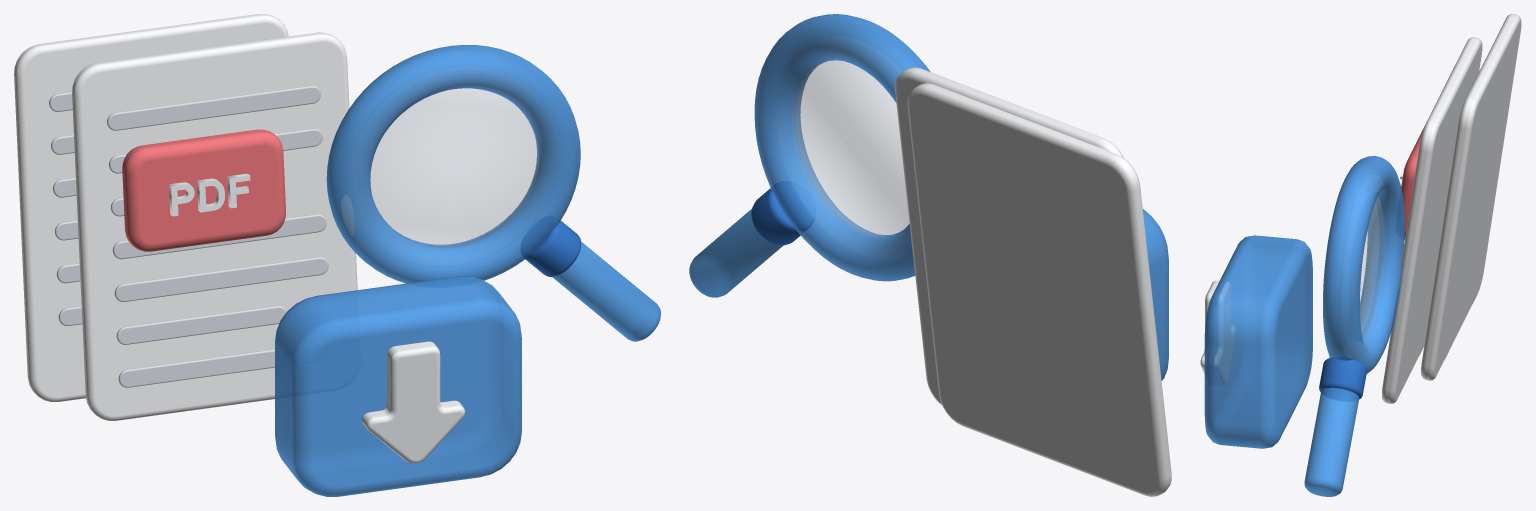
File: module-09.glb
The picture shows the model from 3 angles, left to right: view 1: azimuth 30°, elevation 25°; view 2: azimuth 150°, elevation 25°; view 3: azimuth 270°, elevation 25°; orthographic projection. The views are drawn at different scales.
Parts seen in each view (by area): view 1: pdf_sheet1_paper, arrow_tile, lens_ring.002, pdf_sheet0_paper, lens_glass.002, pdf_badge.001, arrow_glyph, lens_handle.002, pdf_sheet1_line4, pdf_sheet1_line0, pdf_sheet1_line5, pdf_sheet1_line6 (+4 smaller); view 2: pdf_sheet0_paper, lens_ring.002, lens_glass.002, pdf_sheet1_paper, lens_handle.002, lens_collar.002, arrow_tile; view 3: arrow_tile, pdf_sheet0_paper, lens_ring.002, pdf_sheet1_paper, lens_handle.002, lens_glass.002, lens_collar.002, arrow_glyph, pdf_badge.001.
Boxes of the visible parts, left/top/right/bottom form: pdf_sheet1_paper: left=72, top=32, right=357, bottom=420; arrow_tile: left=275, top=276, right=521, bottom=496; lens_ring.002: left=326, top=45, right=580, bottom=283; pdf_sheet0_paper: left=14, top=14, right=288, bottom=401; lens_glass.002: left=370, top=88, right=538, bottom=247; pdf_badge.001: left=122, top=129, right=285, bottom=251; arrow_glyph: left=362, top=341, right=465, bottom=463; lens_handle.002: left=552, top=242, right=660, bottom=341; pdf_sheet1_line4: left=114, top=257, right=328, bottom=301; pdf_sheet1_line0: left=107, top=85, right=320, bottom=130; pdf_sheet1_line5: left=116, top=305, right=286, bottom=344; pdf_sheet1_line6: left=118, top=349, right=274, bottom=387; pdf_sheet0_paper: left=907, top=83, right=1171, bottom=496; lens_ring.002: left=754, top=14, right=930, bottom=281; lens_glass.002: left=791, top=60, right=909, bottom=237; pdf_sheet1_paper: left=895, top=67, right=1123, bottom=405; lens_handle.002: left=689, top=209, right=783, bottom=297; lens_collar.002: left=751, top=181, right=814, bottom=245; arrow_tile: left=1143, top=209, right=1168, bottom=380; arrow_tile: left=1204, top=235, right=1312, bottom=448; pdf_sheet0_paper: left=1421, top=14, right=1521, bottom=380; lens_ring.002: left=1323, top=156, right=1404, bottom=373; pdf_sheet1_paper: left=1382, top=37, right=1482, bottom=403; lens_handle.002: left=1304, top=387, right=1359, bottom=496; lens_glass.002: left=1360, top=196, right=1384, bottom=338; lens_collar.002: left=1319, top=357, right=1366, bottom=401; arrow_glyph: left=1200, top=280, right=1235, bottom=385; pdf_badge.001: left=1401, top=127, right=1424, bottom=239.
Size of the model in its own units: 2.16 by 1.42 by 1.31.
